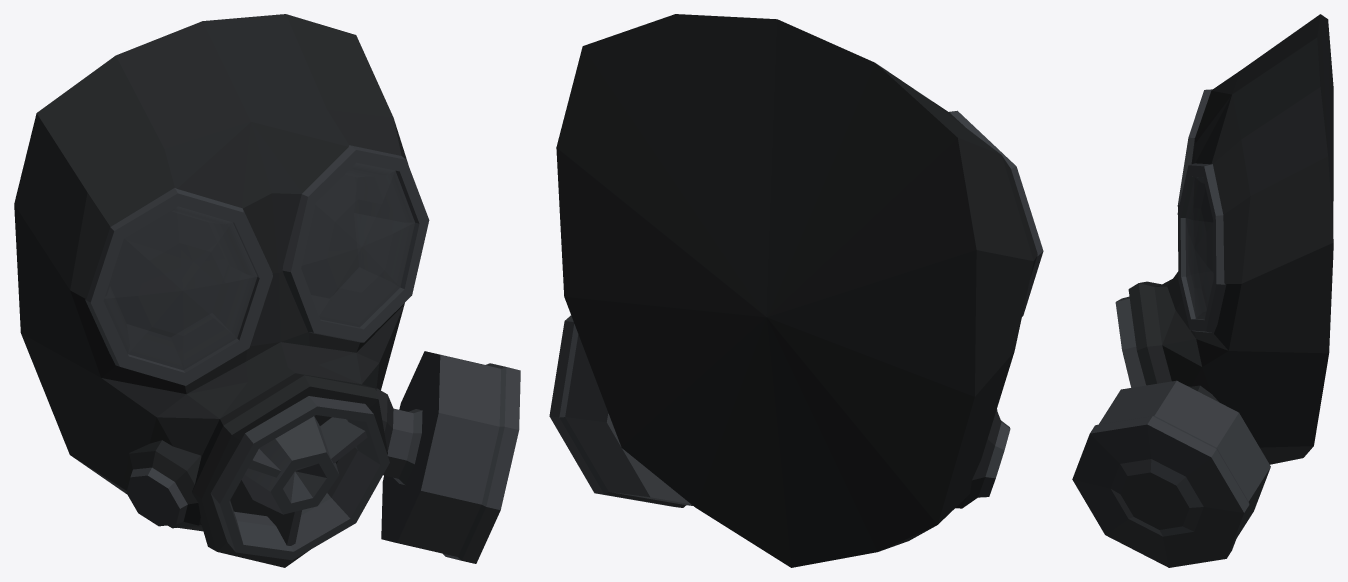
Rendered from SM_Chr_Attach_Gas_Mask_01.fbx.
3 renders of one model, left to right at view 1: azimuth 30°, elevation 25°; view 2: azimuth 150°, elevation 25°; view 3: azimuth 270°, elevation 25°, orthographic. The views are drawn at different scales.
Visible parts, largest first — view 1: SM_Chr_Attach_Gas_Mask_01, SM_Chr_Attach_Gas_Mask_01_Glass; view 2: SM_Chr_Attach_Gas_Mask_01; view 3: SM_Chr_Attach_Gas_Mask_01, SM_Chr_Attach_Gas_Mask_01_Glass.
Boxes of the visible parts, bbox=[...] form: SM_Chr_Attach_Gas_Mask_01: bbox=[14, 14, 520, 567]; SM_Chr_Attach_Gas_Mask_01_Glass: bbox=[103, 163, 414, 370]; SM_Chr_Attach_Gas_Mask_01: bbox=[549, 14, 1043, 567]; SM_Chr_Attach_Gas_Mask_01: bbox=[1072, 14, 1333, 567]; SM_Chr_Attach_Gas_Mask_01_Glass: bbox=[1185, 177, 1213, 319].
Size of the model in its own units: 29.82 by 35.18 by 18.27.
